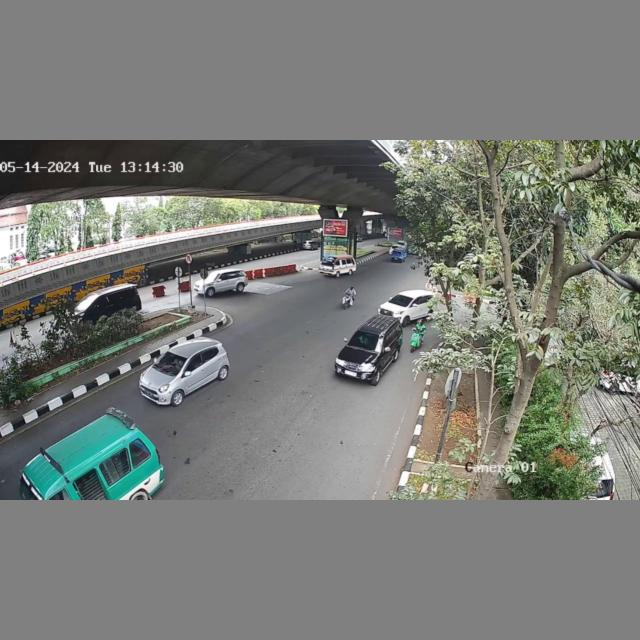windshield: (348, 328, 385, 353), (154, 351, 184, 377)
